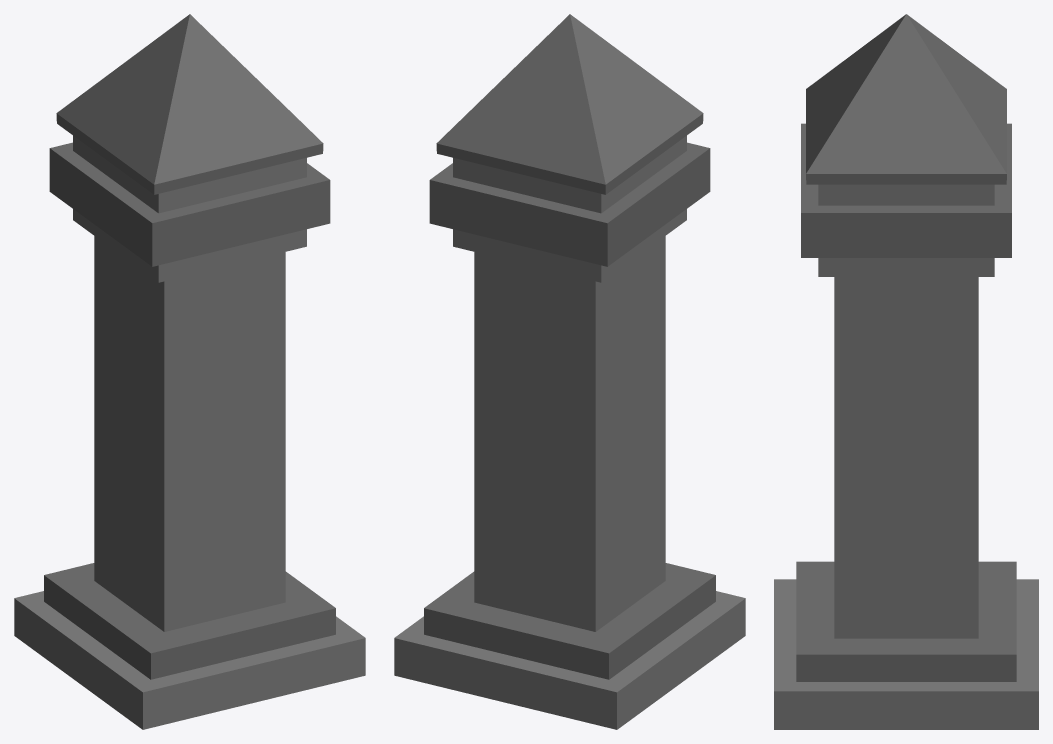
Rendered from small_column1.fbx.
The picture shows the model from 3 angles, left to right: view 1: azimuth 30°, elevation 25°; view 2: azimuth 150°, elevation 25°; view 3: azimuth 270°, elevation 25°; orthographic projection. The views are drawn at different scales.
Visible parts, largest first — view 1: small_column1; view 2: small_column1; view 3: small_column1.
Part boxes in pixels (<box>): small_column1: <box>14,14,365,729</box>; small_column1: <box>394,14,745,729</box>; small_column1: <box>774,14,1038,729</box>.
Size of the model in its own units: 108 by 297 by 108.
